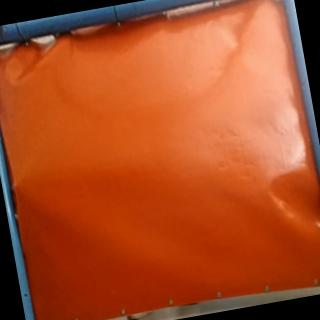Hit-hRxx: (8, 177, 23, 194)
